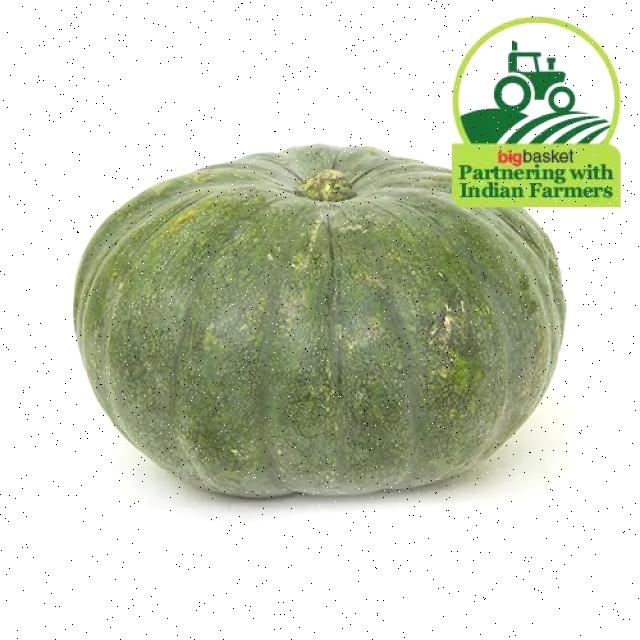Pumpkin: (62, 135, 631, 546)
